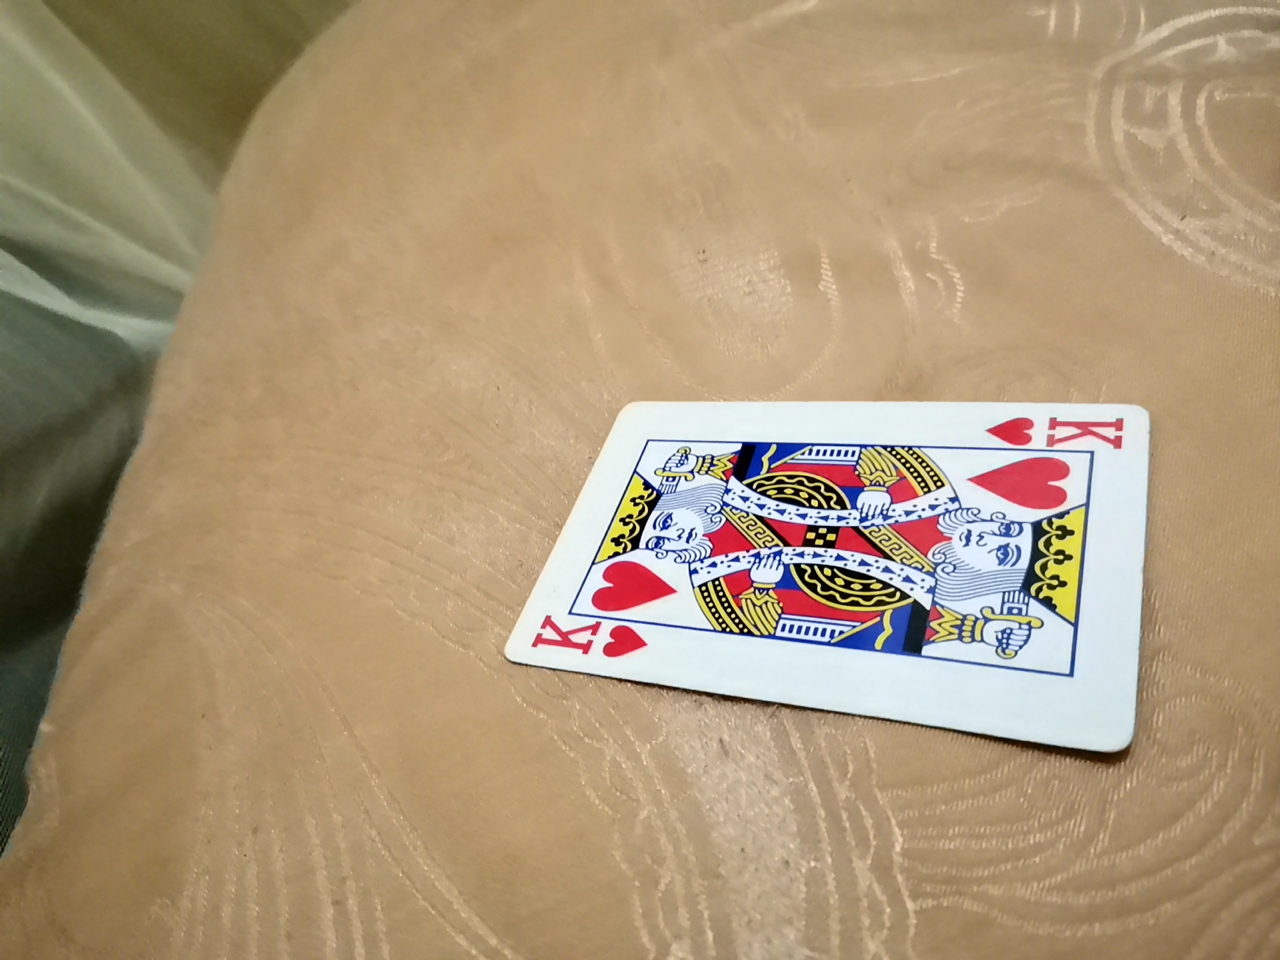hx k: (492, 389, 1171, 749)
